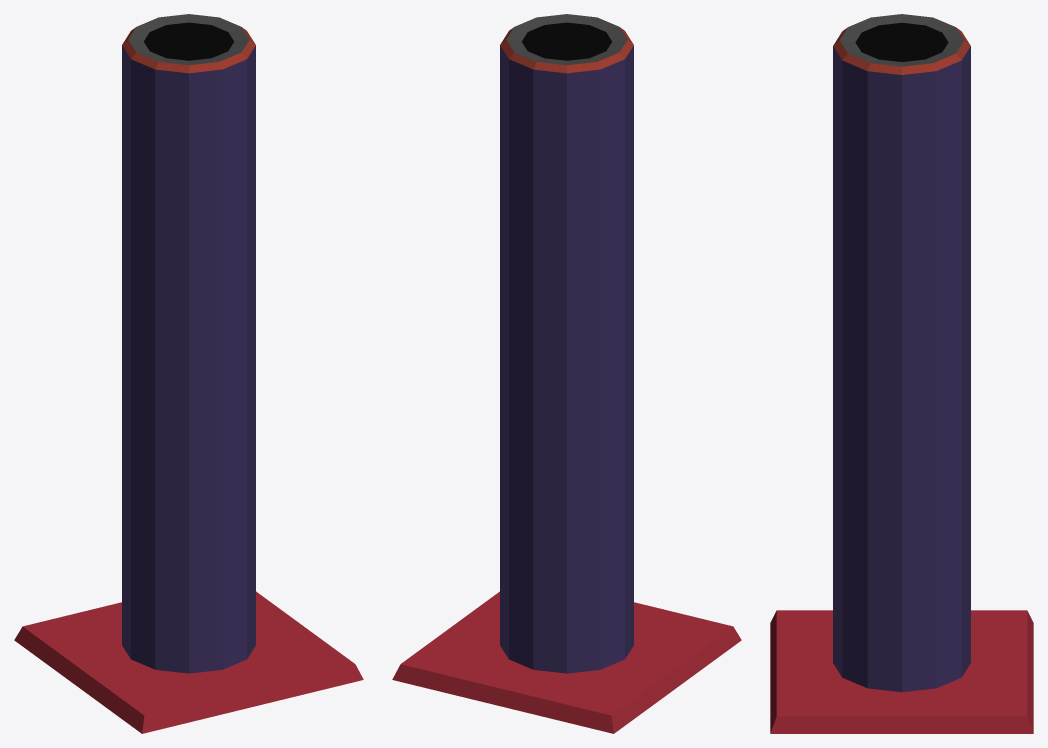
Rendered from PUR_MTube.fbx.
3 renders of one model, left to right at view 1: azimuth 30°, elevation 25°; view 2: azimuth 150°, elevation 25°; view 3: azimuth 270°, elevation 25°, orthographic. The views are drawn at different scales.
Visible parts, largest first — view 1: PreloadedTube_DummyPreloadedTube; view 2: PreloadedTube_DummyPreloadedTube; view 3: PreloadedTube_DummyPreloadedTube.
Boxes of the visible parts, x1=… form: PreloadedTube_DummyPreloadedTube: x1=14, y1=14, x2=363, y2=733; PreloadedTube_DummyPreloadedTube: x1=392, y1=14, x2=741, y2=733; PreloadedTube_DummyPreloadedTube: x1=770, y1=14, x2=1033, y2=733.
Size of the model in its own units: 19.1 by 51.07 by 19.1.
